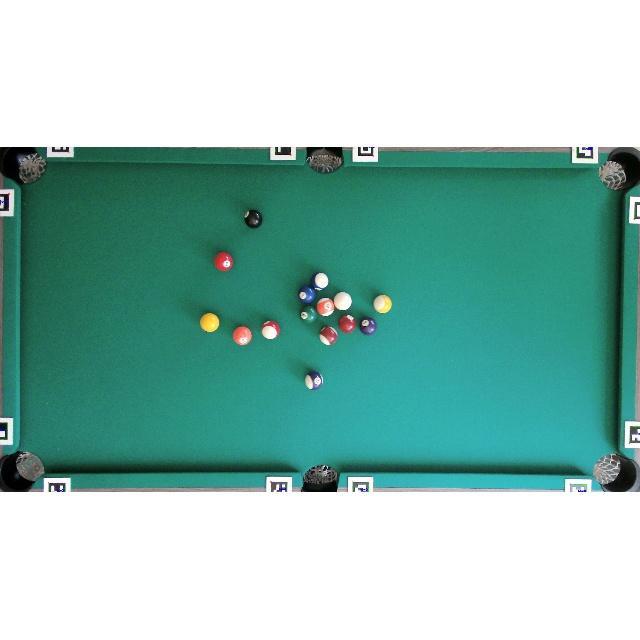cue ball: (334, 292, 352, 310)
other: (232, 325, 253, 346), (199, 312, 220, 333), (372, 294, 393, 314), (310, 272, 330, 292), (319, 325, 339, 345), (214, 252, 234, 272), (338, 314, 357, 334), (359, 316, 377, 336), (244, 209, 262, 229), (262, 320, 280, 339), (316, 298, 335, 316), (300, 305, 318, 324), (298, 286, 316, 304), (306, 372, 324, 389)
